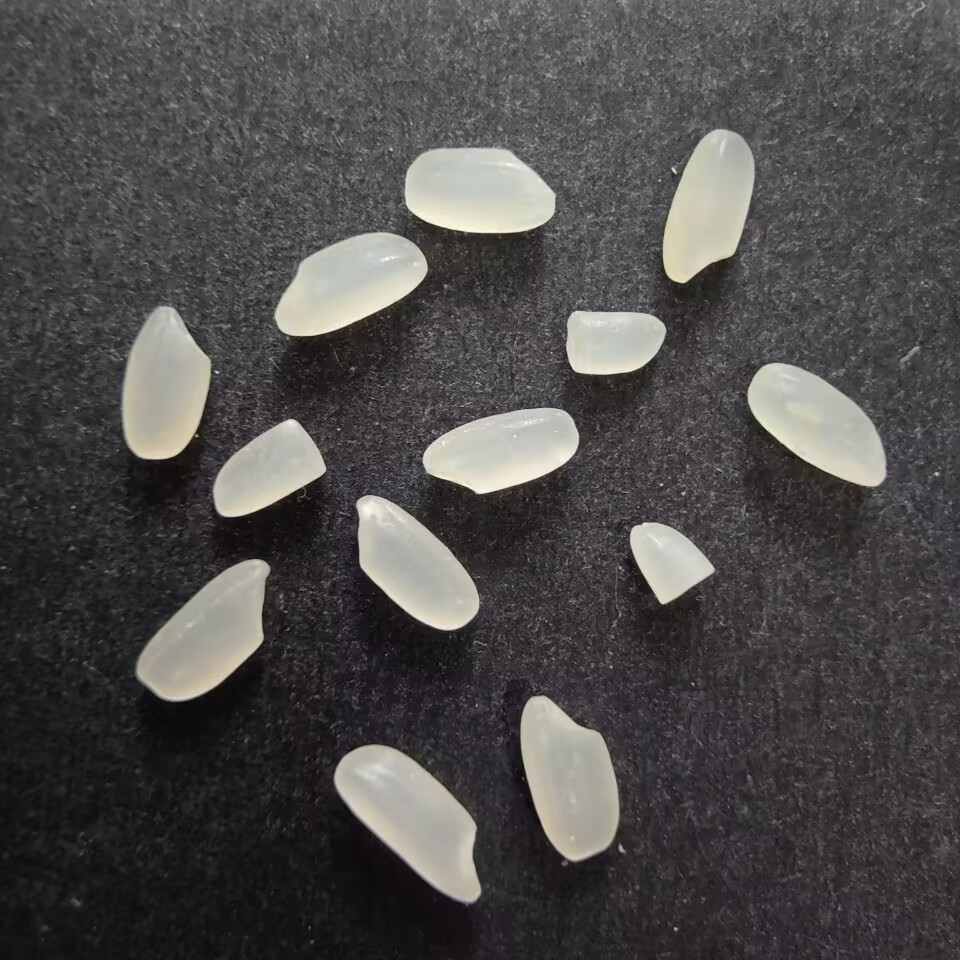broken: (208, 415, 330, 525), (625, 516, 720, 606), (561, 305, 668, 380)
rice: (331, 743, 483, 906), (132, 554, 272, 710), (348, 493, 484, 634), (742, 359, 888, 489), (270, 228, 432, 342), (518, 694, 623, 864), (659, 126, 758, 285), (120, 302, 212, 467), (419, 405, 582, 493), (402, 146, 560, 235)
